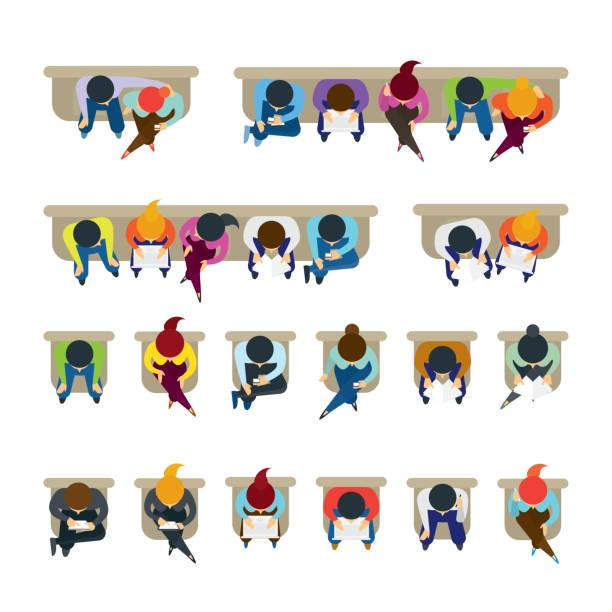person: (441, 69, 549, 140), (145, 463, 209, 567), (142, 317, 209, 415), (316, 323, 378, 423), (509, 463, 568, 567), (179, 206, 239, 303), (501, 323, 562, 411), (44, 480, 112, 558), (487, 87, 555, 163), (378, 59, 429, 159), (227, 335, 293, 412), (121, 87, 186, 160), (235, 465, 292, 548), (303, 211, 366, 286), (413, 484, 476, 558), (48, 332, 110, 407), (433, 216, 496, 289), (496, 207, 553, 284), (242, 80, 305, 149), (70, 72, 133, 140), (62, 214, 124, 283), (322, 483, 382, 553), (125, 199, 178, 278), (415, 338, 473, 409), (242, 215, 301, 284), (313, 78, 371, 144)
